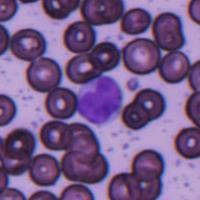M: (76, 74, 123, 125)
